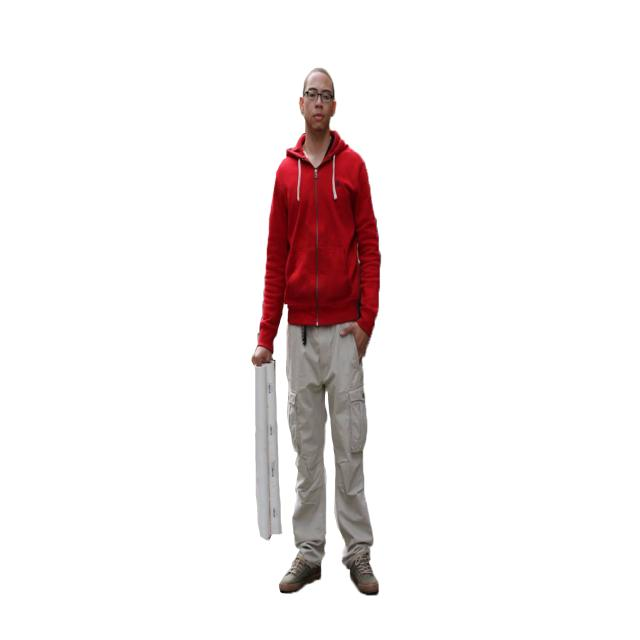jovem: (253, 68, 398, 600)
